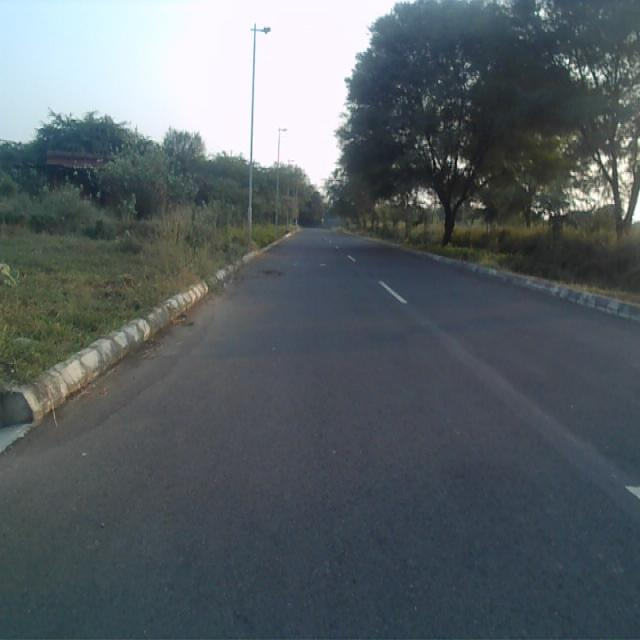lane: (0, 236, 640, 640)
